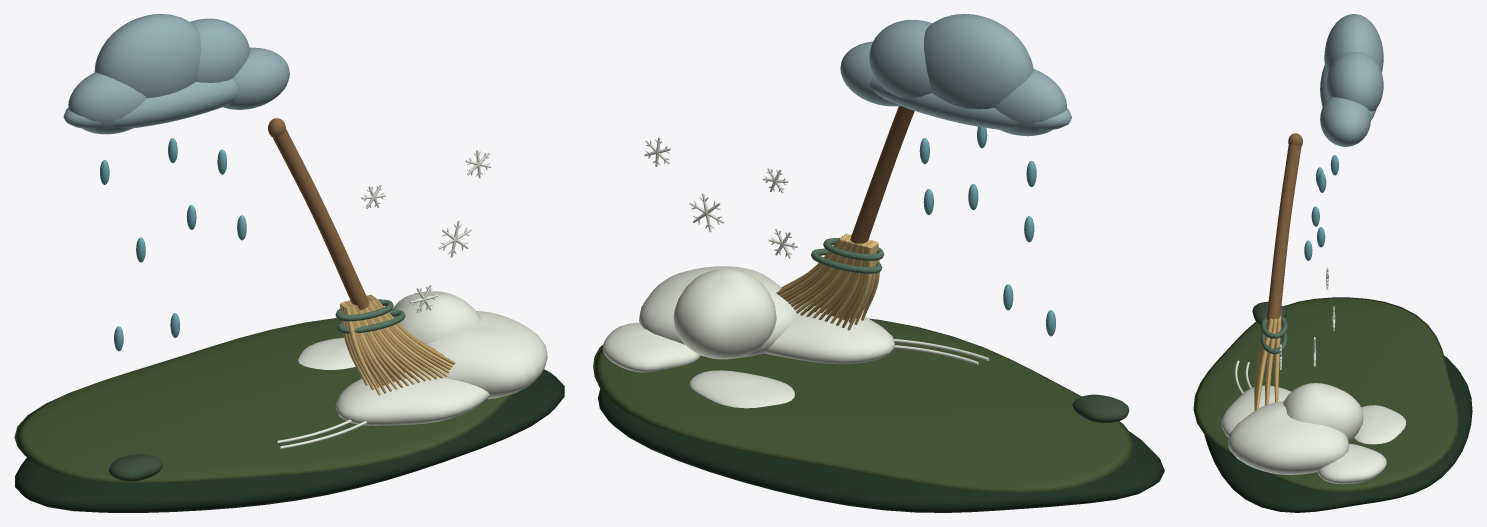
Rendered from snow.glb.
3 renders of one model, left to right at view 1: azimuth 30°, elevation 25°; view 2: azimuth 150°, elevation 25°; view 3: azimuth 270°, elevation 25°, orthographic. The views are drawn at different scales.
Visible parts, largest first — view 1: snow_surface_01, snow_surface_02, snow_surface_08, snow_surface_00, snow_surface_06, snow_surface_04, snow_surface_05, snow_surface_03, snow_surface_09, snow_surface_07; view 2: snow_surface_01, snow_surface_08, snow_surface_02, snow_surface_00, snow_surface_06, snow_surface_04, snow_surface_05, snow_surface_03, snow_surface_09, snow_surface_07; view 3: snow_surface_01, snow_surface_08, snow_surface_00, snow_surface_02, snow_surface_04, snow_surface_06, snow_surface_03, snow_surface_07, snow_surface_05, snow_surface_09.
Part boxes in pixels (box(x1,y1,x2,y2)): snow_surface_01: box(14, 318, 511, 483); snow_surface_02: box(63, 14, 289, 134); snow_surface_08: box(277, 149, 547, 449); snow_surface_00: box(15, 369, 564, 512); snow_surface_06: box(343, 294, 455, 393); snow_surface_04: box(268, 118, 369, 310); snow_surface_05: box(339, 295, 453, 395); snow_surface_03: box(100, 138, 246, 351); snow_surface_09: box(109, 454, 162, 481); snow_surface_07: box(335, 299, 405, 333); snow_surface_01: box(593, 318, 1134, 492); snow_surface_08: box(602, 137, 989, 408); snow_surface_02: box(840, 14, 1071, 136); snow_surface_00: box(598, 389, 1164, 512); snow_surface_06: box(776, 233, 874, 327); snow_surface_04: box(850, 106, 914, 243); snow_surface_05: box(779, 234, 879, 330); snow_surface_03: box(919, 126, 1055, 336); snow_surface_09: box(1072, 394, 1129, 422); snow_surface_07: box(811, 238, 884, 273); snow_surface_01: box(1193, 297, 1459, 492); snow_surface_08: box(1221, 267, 1405, 484); snow_surface_00: box(1204, 355, 1472, 512); snow_surface_02: box(1320, 14, 1383, 146); snow_surface_04: box(1266, 133, 1302, 319); snow_surface_06: box(1254, 312, 1281, 410); snow_surface_03: box(1304, 155, 1338, 260); snow_surface_07: box(1261, 316, 1287, 353); snow_surface_05: box(1254, 311, 1281, 410); snow_surface_09: box(1252, 301, 1286, 324).
Bounding box in the file's own units: 4.61 × 3.82 × 2.63.
